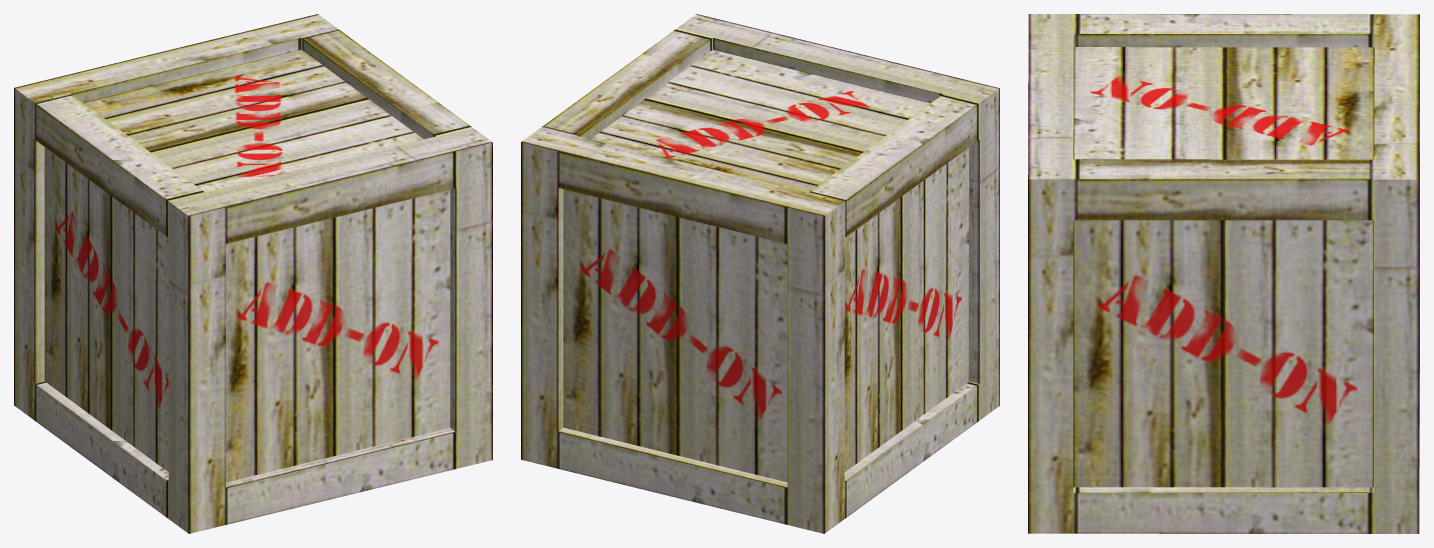
The model's file is powerup.obj.
3 views of the same model, side by side, from view 1: azimuth 30°, elevation 25°; view 2: azimuth 150°, elevation 25°; view 3: azimuth 270°, elevation 25° (orthographic). The views are drawn at different scales.
Visible parts, largest first — view 1: Crate; view 2: Crate; view 3: Crate.
Part boxes in pixels (x1,y1,x2,y2): Crate: [14, 14, 492, 533]; Crate: [521, 14, 999, 533]; Crate: [1028, 14, 1419, 533].
Bounding box in the file's own units: 5.21 × 5.2 × 5.21.
